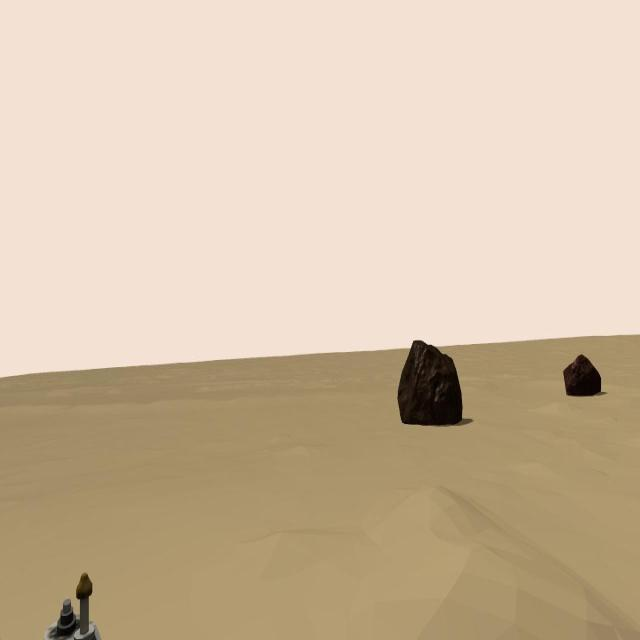rock: (398, 340, 462, 426), (563, 353, 601, 395)
